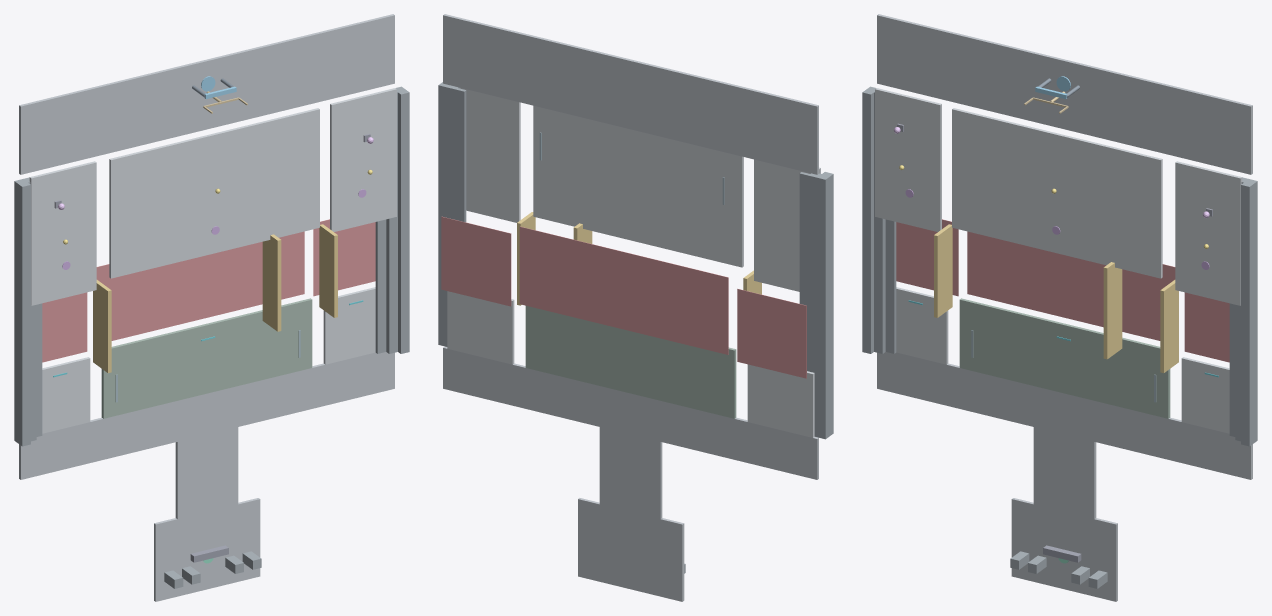
Rendered from level_06_football__starts_in_locke.glb.
The picture shows the model from 3 angles, left to right: view 1: azimuth 30°, elevation 25°; view 2: azimuth 150°, elevation 25°; view 3: azimuth 330°, elevation 25°; orthographic projection.
Parts seen in each view (by area): view 1: END_ZONE_MERGE_0004, FIELD_FINAL_0015, THREE_ROUTE_SPLIT_0003, FIELD_LOWER_0012, VOID_DEBUG_NONCOLLIDING_0021, RIGHT_STANDS_FINAL_0014, LEFT_STANDS_FINAL_0013, LOCKER_ROOM_0001, LOCKER_TUNNEL_0002, BLEACHERS_STEP_0030, RIGHT_STANDS_LOWER_0011, LEFT_STANDS_LOWER_0010 (+10 smaller); view 2: END_ZONE_MERGE_0004, FIELD_FINAL_0015, VOID_DEBUG_NONCOLLIDING_0021, THREE_ROUTE_SPLIT_0003, FIELD_LOWER_0012, LOCKER_ROOM_0001, RIGHT_STANDS_FINAL_0014, LEFT_STANDS_FINAL_0013, LOCKER_TUNNEL_0002, VOID_DEBUG_NONCOLLIDING_0020, VOID_DEBUG_NONCOLLIDING_0019, BLEACHERS_STEP_0030 (+7 smaller); view 3: END_ZONE_MERGE_0004, FIELD_FINAL_0015, THREE_ROUTE_SPLIT_0003, FIELD_LOWER_0012, VOID_DEBUG_NONCOLLIDING_0021, LEFT_STANDS_FINAL_0013, RIGHT_STANDS_FINAL_0014, LOCKER_ROOM_0001, LOCKER_TUNNEL_0002, BLEACHERS_STEP_0033, LEFT_STANDS_LOWER_0010, RIGHT_STANDS_LOWER_0011 (+10 smaller).
Part boxes in pixels (x1,y1,x2,y2): END_ZONE_MERGE_0004: (19, 14, 394, 174); FIELD_FINAL_0015: (109, 108, 319, 278); THREE_ROUTE_SPLIT_0003: (19, 352, 394, 479); FIELD_LOWER_0012: (101, 298, 312, 418); VOID_DEBUG_NONCOLLIDING_0021: (96, 231, 304, 340); RIGHT_STANDS_FINAL_0014: (330, 88, 396, 231); LEFT_STANDS_FINAL_0013: (29, 161, 96, 305); LOCKER_ROOM_0001: (154, 498, 260, 601); LOCKER_TUNNEL_0002: (175, 422, 238, 519); BLEACHERS_STEP_0030: (14, 179, 30, 446); RIGHT_STANDS_LOWER_0011: (323, 287, 375, 364); LEFT_STANDS_LOWER_0010: (42, 357, 90, 433); END_ZONE_MERGE_0004: (443, 14, 818, 174); FIELD_FINAL_0015: (533, 105, 743, 267); VOID_DEBUG_NONCOLLIDING_0021: (519, 226, 728, 354); THREE_ROUTE_SPLIT_0003: (443, 346, 818, 479); FIELD_LOWER_0012: (525, 305, 736, 418); LOCKER_ROOM_0001: (578, 498, 684, 601); RIGHT_STANDS_FINAL_0014: (460, 88, 520, 222); LEFT_STANDS_FINAL_0013: (754, 159, 820, 291); LOCKER_TUNNEL_0002: (599, 422, 662, 518); VOID_DEBUG_NONCOLLIDING_0020: (441, 216, 511, 306); VOID_DEBUG_NONCOLLIDING_0019: (737, 288, 806, 378); BLEACHERS_STEP_0030: (817, 172, 833, 439); END_ZONE_MERGE_0004: (877, 14, 1252, 174); FIELD_FINAL_0015: (952, 108, 1162, 278); THREE_ROUTE_SPLIT_0003: (877, 352, 1252, 479); FIELD_LOWER_0012: (959, 298, 1170, 418); VOID_DEBUG_NONCOLLIDING_0021: (967, 231, 1175, 340); LEFT_STANDS_FINAL_0013: (875, 88, 941, 231); RIGHT_STANDS_FINAL_0014: (1175, 161, 1242, 305); LOCKER_ROOM_0001: (1011, 498, 1117, 601); LOCKER_TUNNEL_0002: (1033, 422, 1096, 519); BLEACHERS_STEP_0033: (1241, 179, 1257, 446); LEFT_STANDS_LOWER_0010: (896, 287, 948, 364); RIGHT_STANDS_LOWER_0011: (1181, 357, 1229, 433).
Bounding box in the file's own units: 89 × 116 × 11.86.
